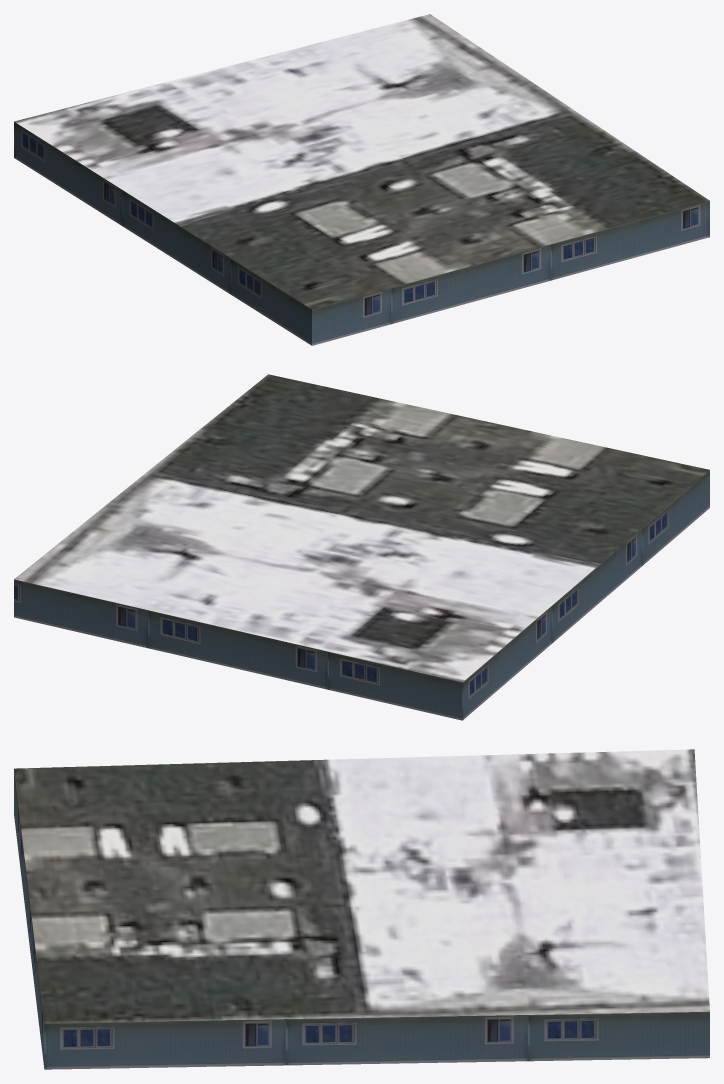
Rendered from RelTex__1.fbx.
3 renders of one model, top to bottom at view 1: azimuth 30°, elevation 25°; view 2: azimuth 150°, elevation 25°; view 3: azimuth 270°, elevation 25°, orthographic. The views are drawn at different scales.
Visible parts, largest first — view 1: CityEngineMaterial_2_m, CityEngineMaterial_3_m; view 2: CityEngineMaterial_2_m, CityEngineMaterial_3_m; view 3: CityEngineMaterial_2_m, CityEngineMaterial_3_m.
Boxes of the visible parts, x1,y1,x2,y2 form: CityEngineMaterial_2_m: [14, 14, 709, 309]; CityEngineMaterial_3_m: [14, 122, 709, 345]; CityEngineMaterial_2_m: [14, 374, 709, 682]; CityEngineMaterial_3_m: [14, 470, 709, 720]; CityEngineMaterial_2_m: [14, 749, 709, 1023]; CityEngineMaterial_3_m: [14, 770, 709, 1069].
Bounding box in the file's own units: 38.04 × 3 × 40.84.
2 materials, 2 textured.
